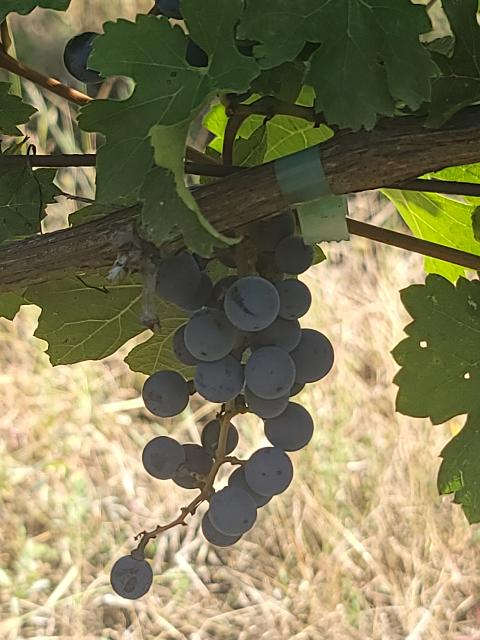grapes: (111, 211, 334, 599)
